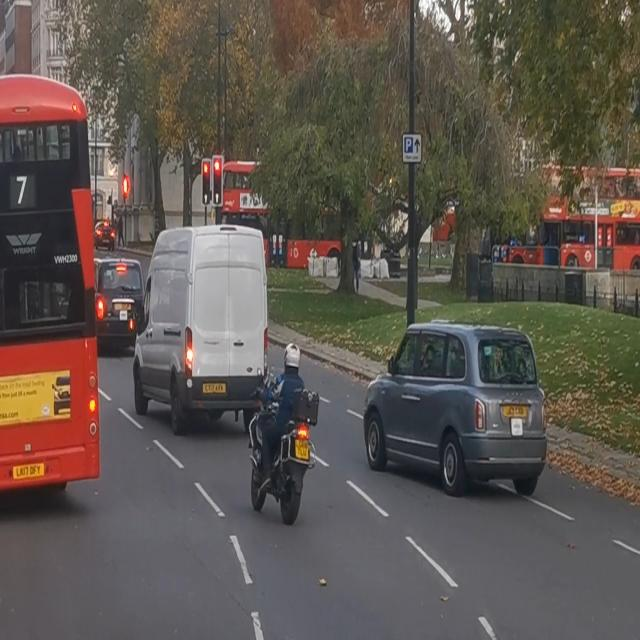Car: (0, 68, 96, 524), (364, 320, 552, 490), (132, 222, 268, 428), (98, 248, 150, 362)
